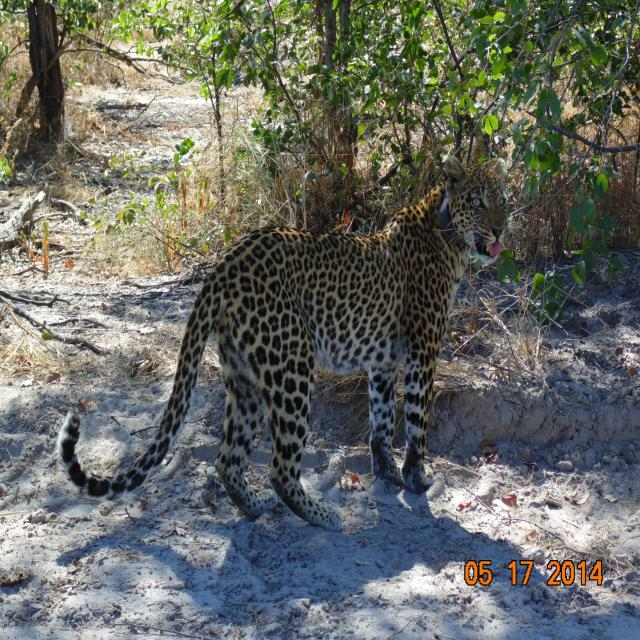Leopard: (52, 149, 515, 534)
